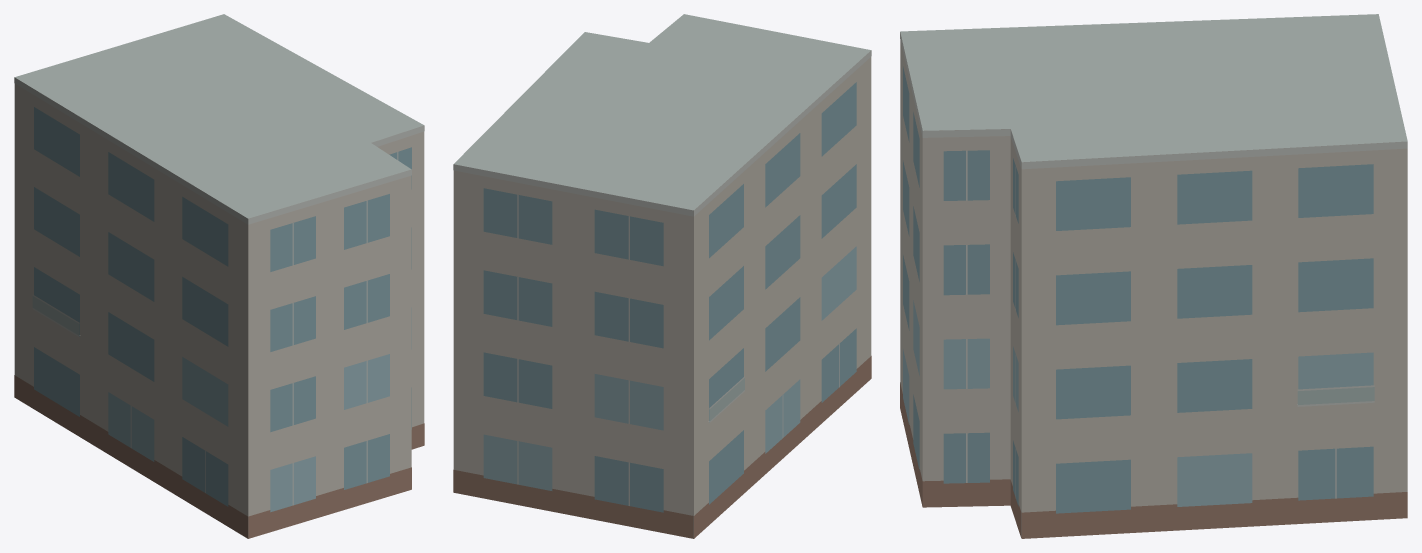
The model's file is survey-upis-32613878.glb.
3 renders of one model, left to right at view 1: azimuth 30°, elevation 25°; view 2: azimuth 150°, elevation 25°; view 3: azimuth 270°, elevation 25°, orthographic. The views are drawn at different scales.
Visible parts, largest first — view 1: survey-upis-32613878.tmp; view 2: survey-upis-32613878.tmp; view 3: survey-upis-32613878.tmp.
Boxes of the visible parts, bbox=[...] form: survey-upis-32613878.tmp: bbox=[14, 14, 424, 538]; survey-upis-32613878.tmp: bbox=[453, 14, 871, 538]; survey-upis-32613878.tmp: bbox=[900, 14, 1407, 538].
Size of the model in its own units: 10.9 by 12.9 by 15.77.
